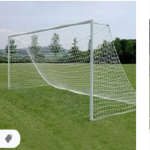goals: (6, 18, 136, 121)
